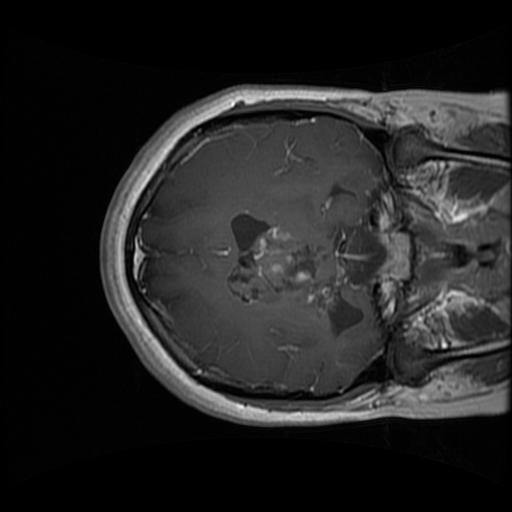glioma: (223, 212, 364, 343)
